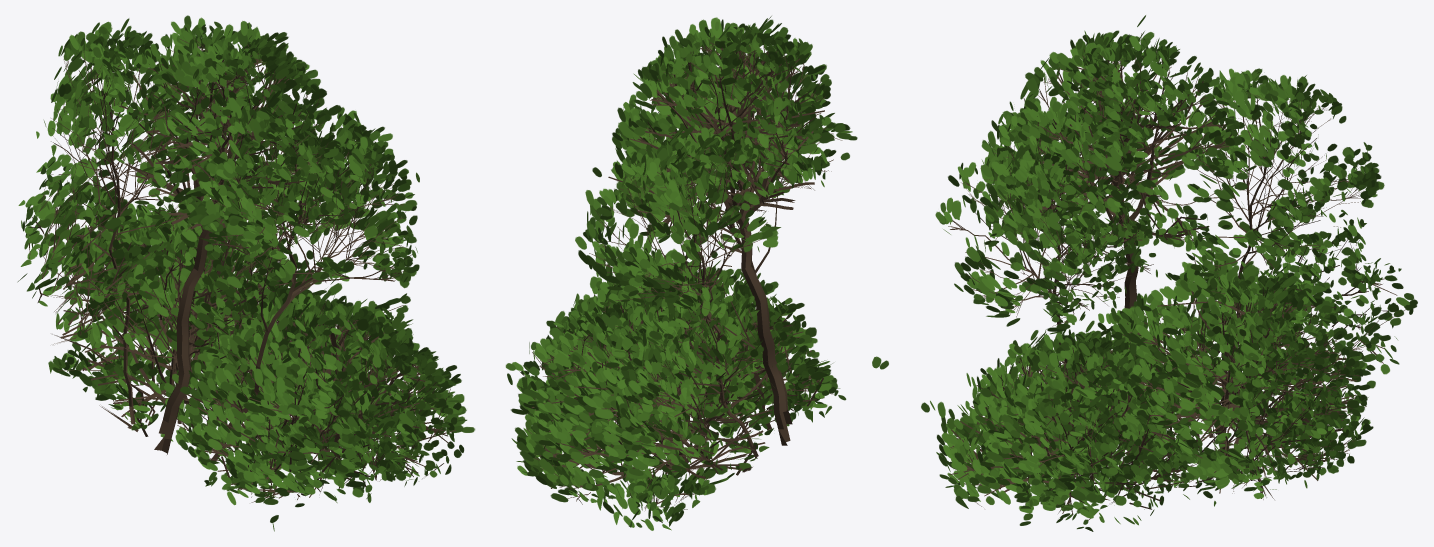
3 renders of one model, left to right at view 1: azimuth 30°, elevation 25°; view 2: azimuth 150°, elevation 25°; view 3: azimuth 270°, elevation 25°, orthographic. The views are drawn at different scales.
Parts seen in each view (by area): view 1: oak 01.001_trunk_Mat.001_0.380; view 2: oak 01.001_trunk_Mat.001_0.380; view 3: oak 01.001_trunk_Mat.001_0.380.
Boxes of the visible parts, bbox=[...] form: oak 01.001_trunk_Mat.001_0.380: bbox=[17, 15, 475, 531]; oak 01.001_trunk_Mat.001_0.380: bbox=[505, 16, 888, 530]; oak 01.001_trunk_Mat.001_0.380: bbox=[921, 15, 1417, 531].
Size of the model in its own units: 2.98 by 4.39 by 4.64.
2 materials, 1 textured.
